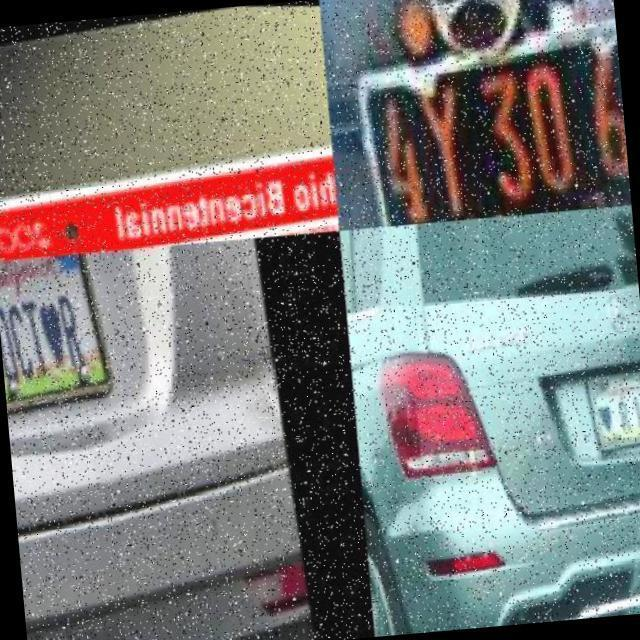License Plate: (348, 3, 632, 229), (0, 249, 124, 406), (586, 350, 640, 448)
